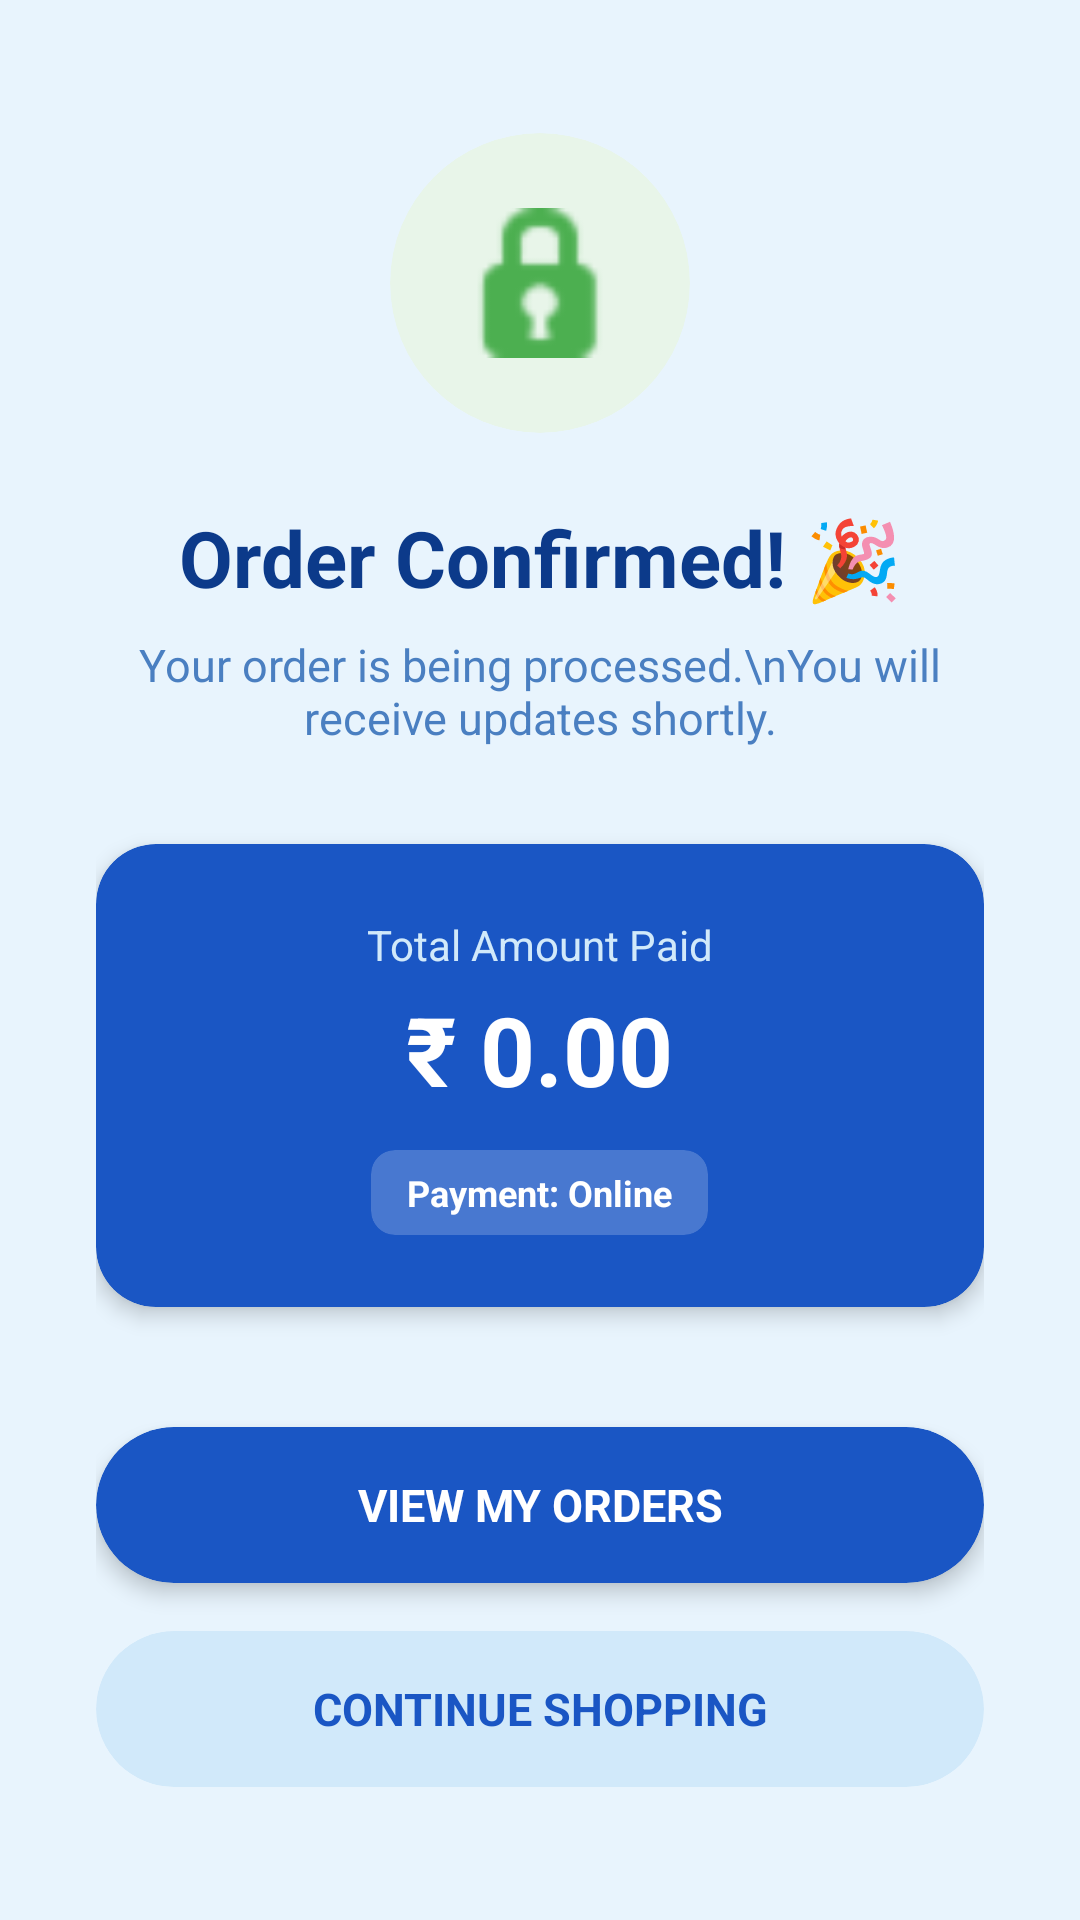

Where to tap for icons on this 1080 x 1920 app screen, as point (x, y):
secure: point (539, 283)
